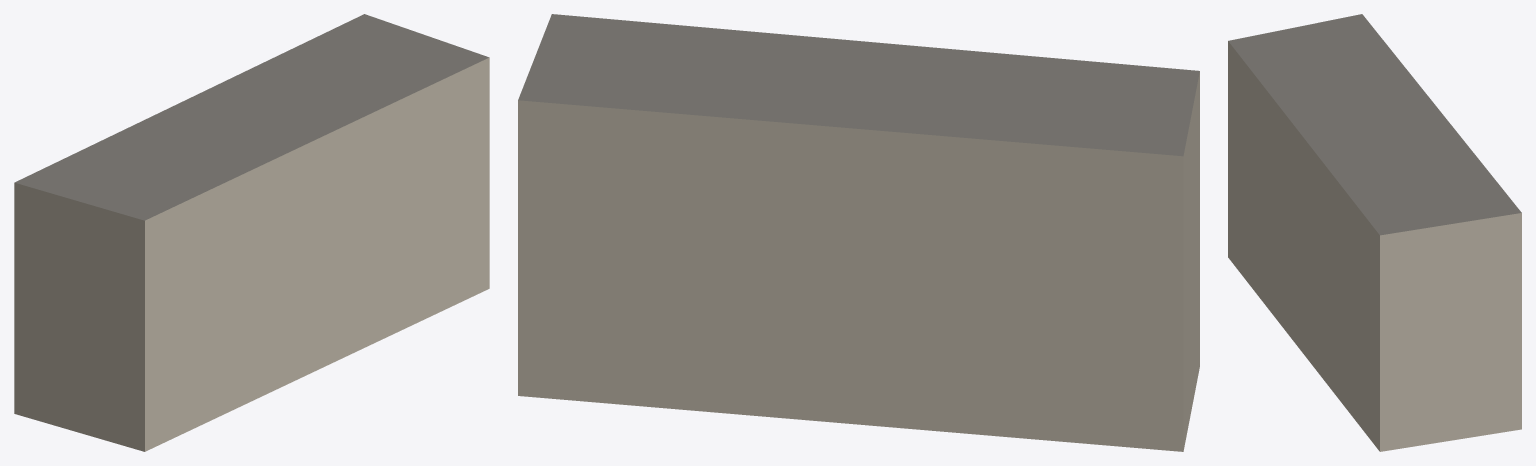
3 renders of one model, left to right at view 1: azimuth 30°, elevation 25°; view 2: azimuth 150°, elevation 25°; view 3: azimuth 270°, elevation 25°, orthographic. The views are drawn at different scales.
Visible parts, largest first — view 1: HP-w505659401; view 2: HP-w505659401; view 3: HP-w505659401.
Boxes of the visible parts, x1,y1,x2,y2 form: HP-w505659401: [14, 14, 489, 451]; HP-w505659401: [518, 14, 1199, 451]; HP-w505659401: [1228, 14, 1521, 451].
Size of the model in its own units: 26.32 by 12 by 14.76.
